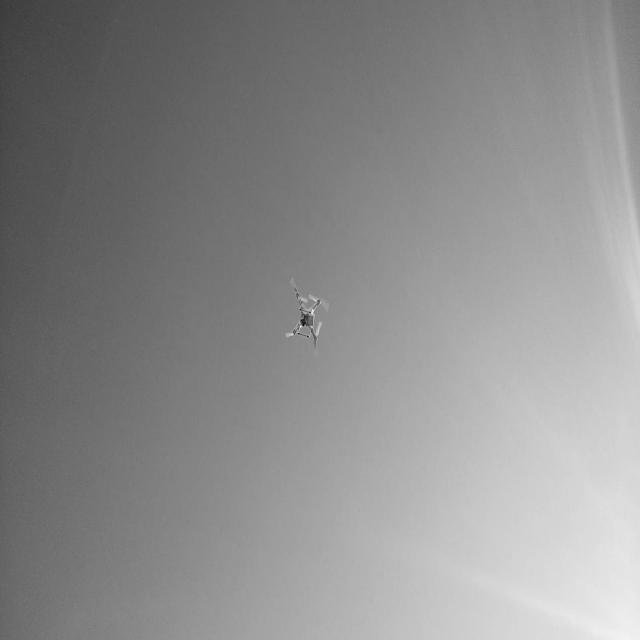drone: (284, 274, 329, 348)
